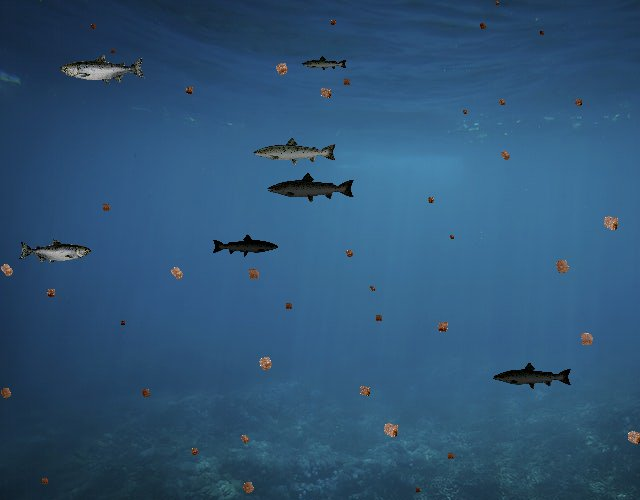Fish: (267, 171, 357, 204), (252, 136, 338, 167), (60, 54, 146, 85), (492, 361, 573, 390), (19, 239, 92, 265), (211, 234, 279, 258), (301, 55, 348, 72)
Pellet: (314, 82, 337, 105), (495, 145, 515, 165), (181, 82, 198, 99), (372, 311, 386, 325), (87, 20, 100, 33), (460, 106, 470, 116)
